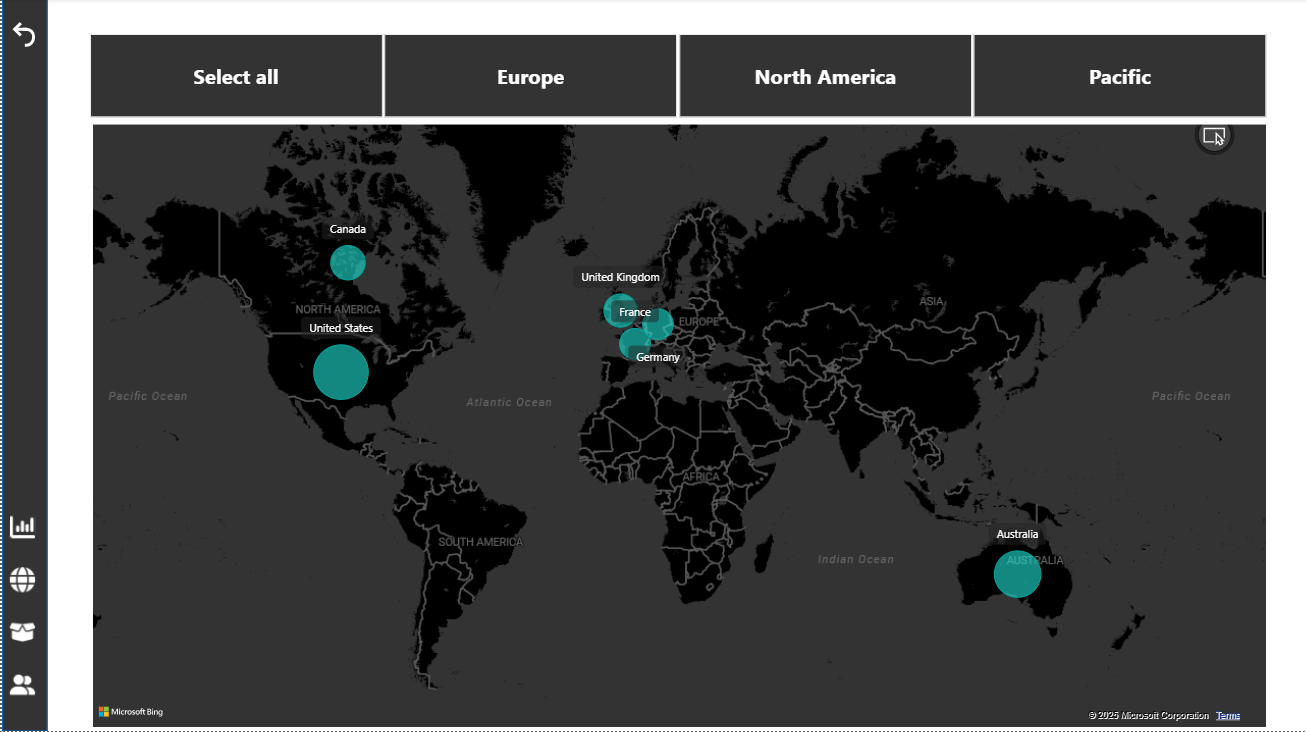

The page's visual inventory and layout, read from the dashboard file:
{"tool":"powerbi","page":{"name":"Map","canvas":[1280,720],"ordinal":1},"visuals":[{"type":"shape","box":[0,0,45,720],"z":0},{"type":"actionButton","box":[3.7,503.1,36.8,33.1],"z":1000,"group":"g1"},{"type":"map","fields":{"Category":["Territory Lookup.Country"],"Size":["Measure Table.Total Orders"]},"box":[84.7,105.5,1160.7,614.7],"z":1000},{"type":"slicer","fields":{"Values":["Territory Lookup.Continent"]},"box":[60.1,28.2,1204.9,95.7],"z":2000},{"type":"actionButton","box":[3.7,554.6,36.8,33.1],"z":2000,"group":"g1"},{"type":"actionButton","box":[3.7,657.7,36.8,33.1],"z":3000,"group":"g1"},{"type":"group","id":"g1","title":"Navigation buttons","box":[3.7,503.1,36.8,187.7],"z":3000},{"type":"actionButton","box":[4.9,17.2,34.4,36.8],"z":4000},{"type":"actionButton","box":[3.7,606.2,36.8,33.1],"z":4000,"group":"g1"}]}

Visuals, with their boxes in screenshot pixels (x1, y1, x2, y2):
shape: crop(0, 3, 45, 725)
actionButton: crop(4, 507, 41, 540)
map - Territory Lookup.Country x Measure Table.Total Orders: crop(85, 109, 1247, 725)
slicer - Territory Lookup.Continent: crop(60, 32, 1267, 127)
actionButton: crop(4, 559, 41, 592)
actionButton: crop(4, 662, 41, 695)
"Navigation buttons" group: crop(4, 507, 41, 695)
actionButton: crop(5, 21, 39, 57)
actionButton: crop(4, 611, 41, 644)
